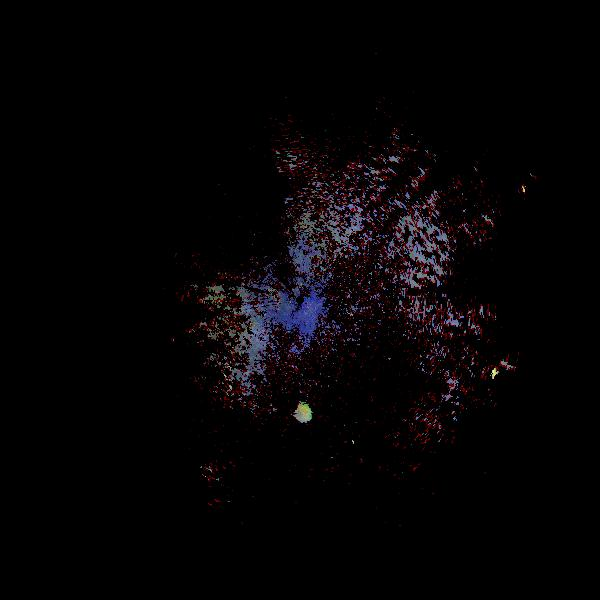roost: (296, 406, 311, 421)
